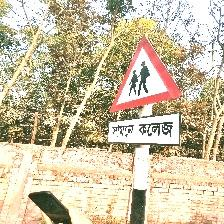College-in-front: (108, 36, 192, 148)
